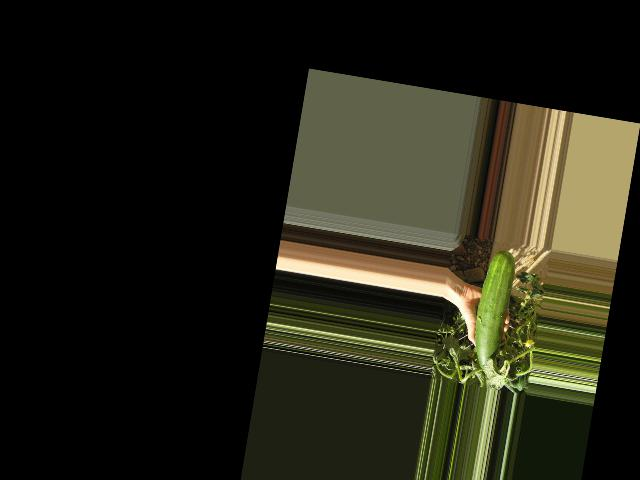cucumber: (467, 247, 518, 373)
